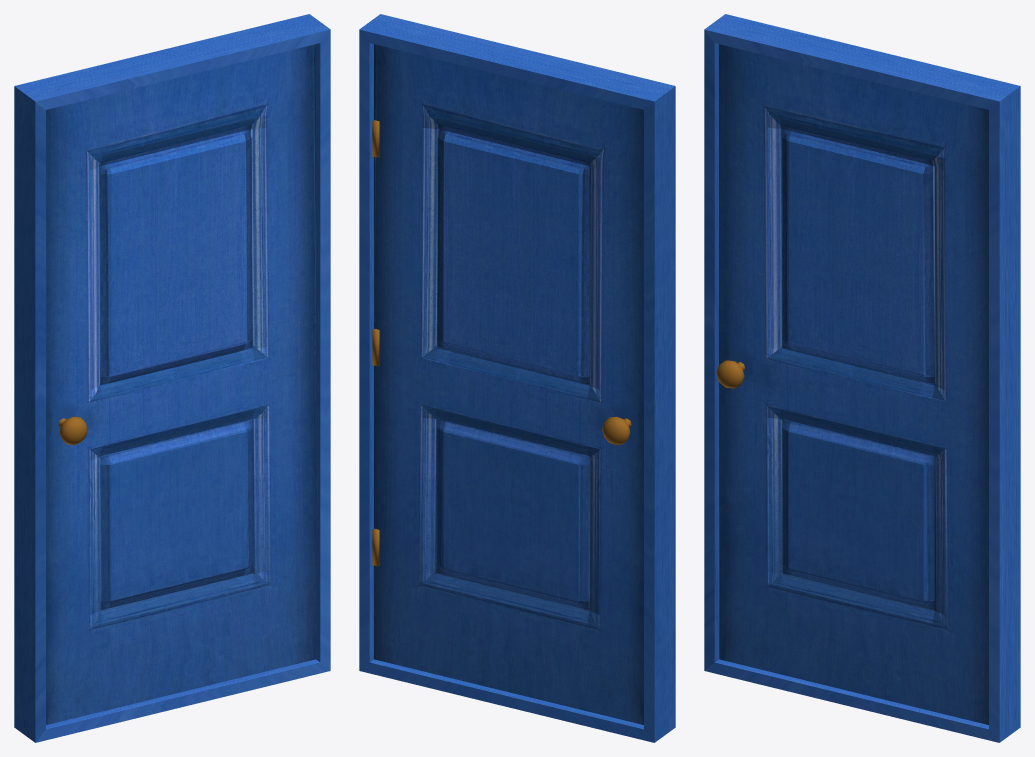
File: doorBlue.glb
The picture shows the model from 3 angles, left to right: view 1: azimuth 30°, elevation 25°; view 2: azimuth 150°, elevation 25°; view 3: azimuth 330°, elevation 25°; orthographic projection.
Visible parts, largest first — view 1: door, frame, knob; view 2: door, frame, hinge2, knob; view 3: door, frame, knob.
Part boxes in pixels (left/top/right/bottom): door: left=46, top=44, right=315, bottom=724; frame: left=14, top=14, right=330, bottom=742; knob: left=58, top=416, right=87, bottom=444; door: left=374, top=44, right=643, bottom=724; frame: left=359, top=14, right=675, bottom=742; hinge2: left=372, top=120, right=379, bottom=566; knob: left=602, top=416, right=631, bottom=444; door: left=719, top=44, right=988, bottom=724; frame: left=704, top=14, right=1020, bottom=742; knob: left=716, top=360, right=744, bottom=388.
Bounding box in the file's own units: 1.91 × 3.97 × 0.4957.
3 materials, 2 textured.
